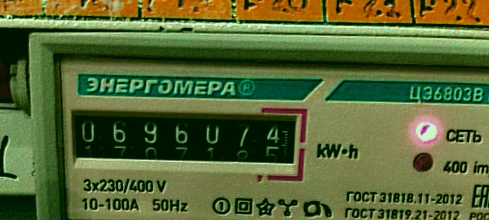0: (76, 117, 96, 143), (203, 119, 220, 145)
4: (264, 120, 281, 144)
5: (264, 144, 279, 162)
6: (109, 117, 129, 144), (171, 120, 189, 144)
7: (232, 121, 251, 147)
9: (139, 119, 159, 144)
screen: (57, 95, 312, 184)
